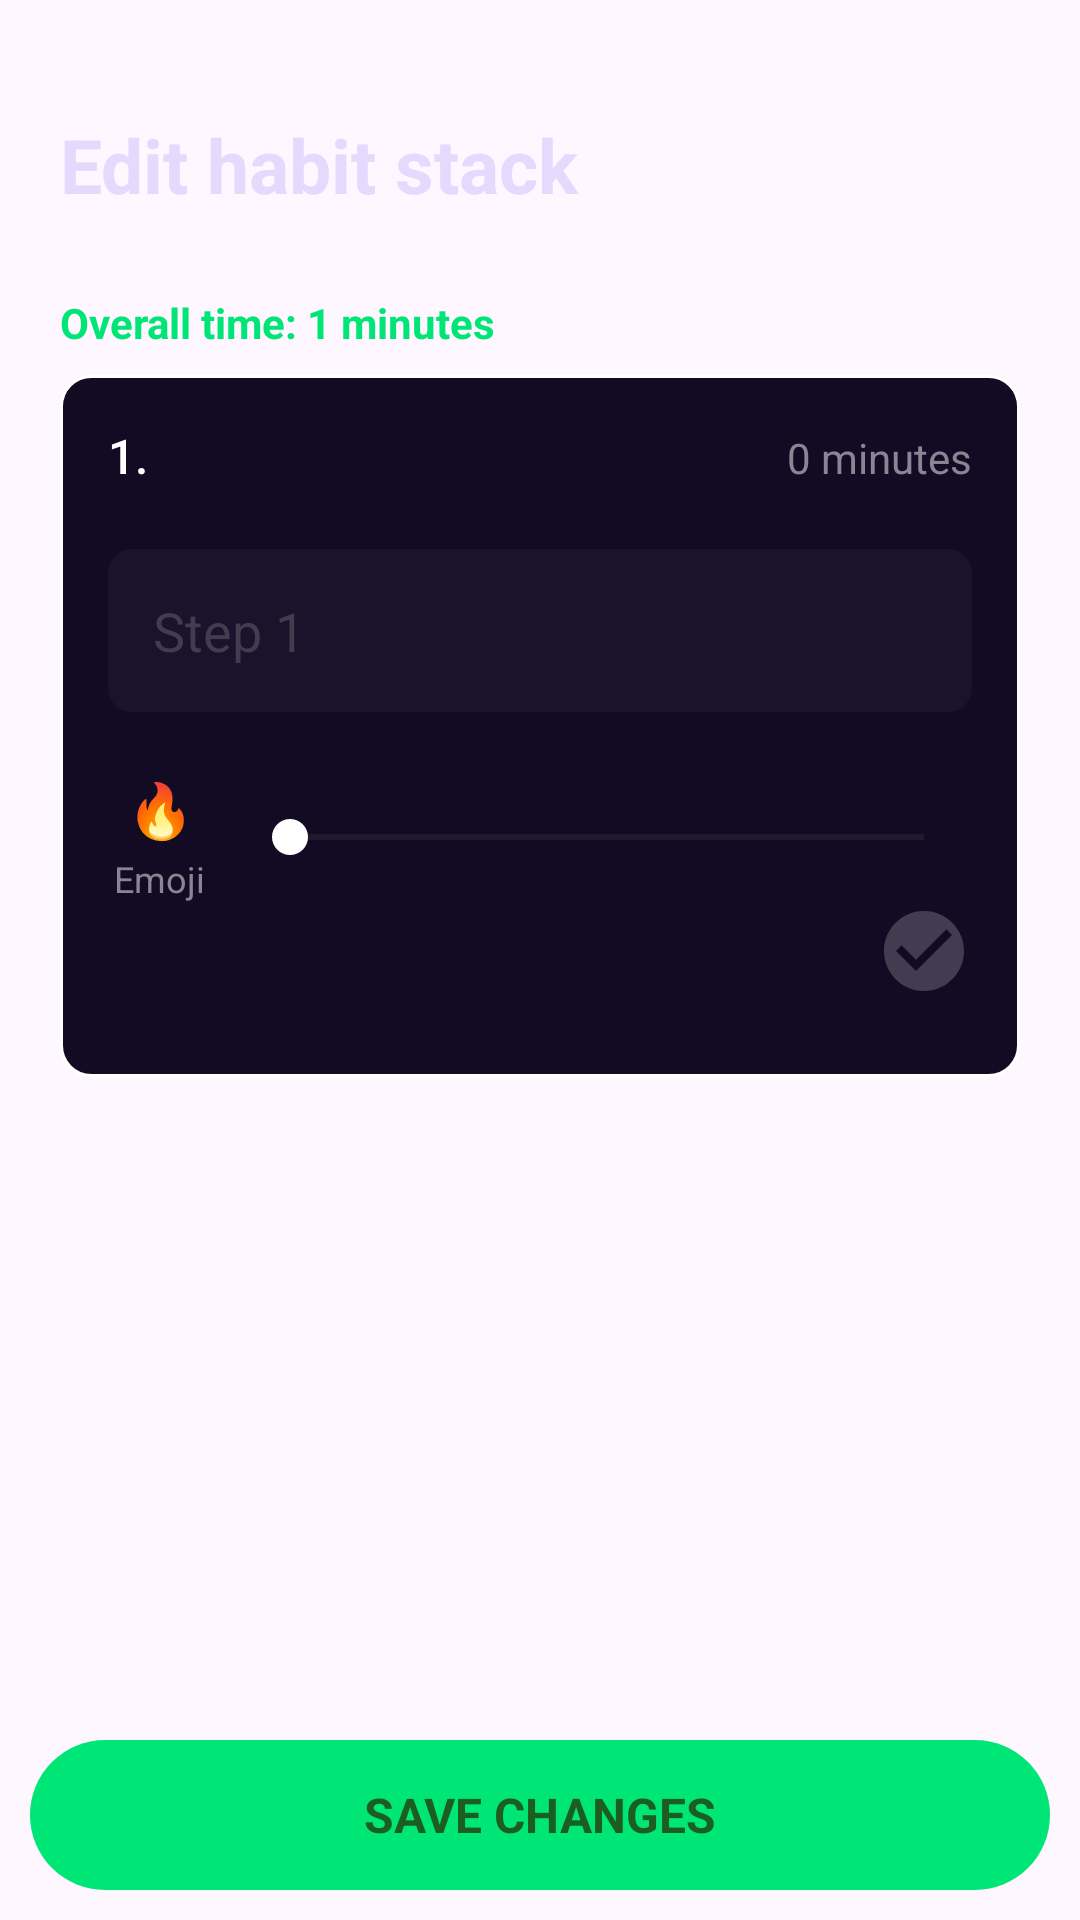

Icons on this 1080*1920 Android screen, each with its box as {"x1": x1, "y1": y1, "x2": x2, "y2": y2}:
check circle: {"x1": 884, "y1": 911, "x2": 964, "y2": 991}
